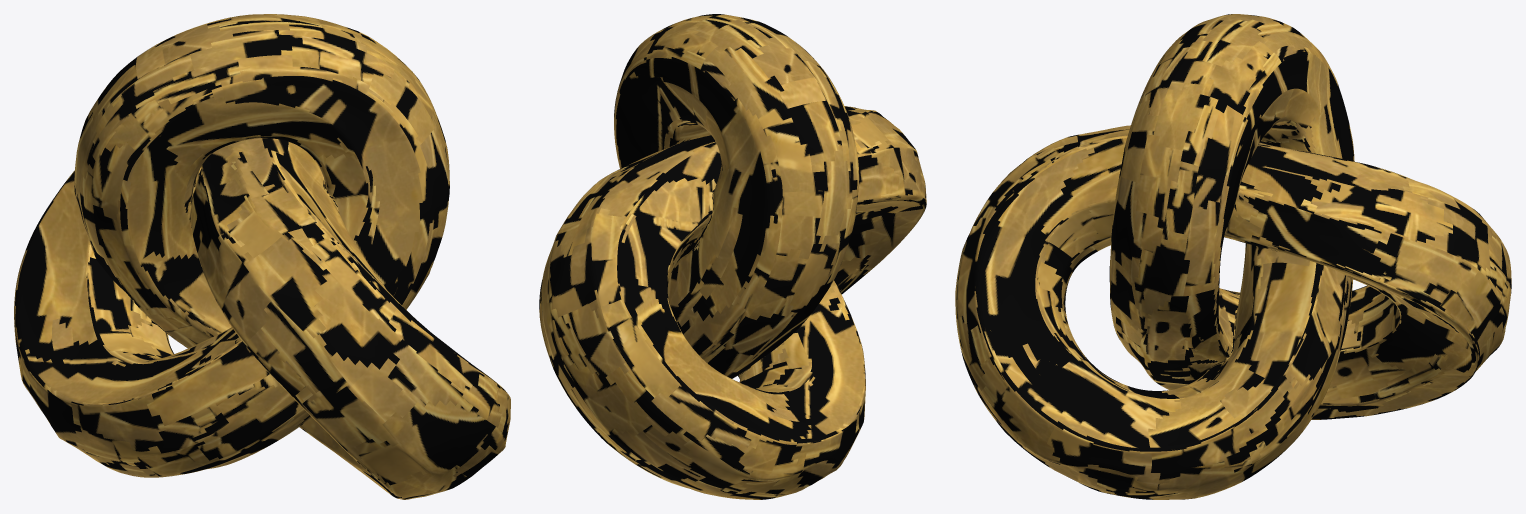
File: bonus_special_ULTRA_50k.fbx
3 views of the same model, side by side, from view 1: azimuth 30°, elevation 25°; view 2: azimuth 150°, elevation 25°; view 3: azimuth 270°, elevation 25° (orthographic). The views are drawn at different scales.
Parts seen in each view (by area): view 1: HIGH; view 2: HIGH; view 3: HIGH.
Part boxes in pixels (box(x1,y1,x2,y2)): HIGH: box(14, 14, 510, 499); HIGH: box(539, 14, 926, 499); HIGH: box(955, 14, 1511, 499).
Size of the model in its own units: 1.23 by 1.58 by 1.9.
